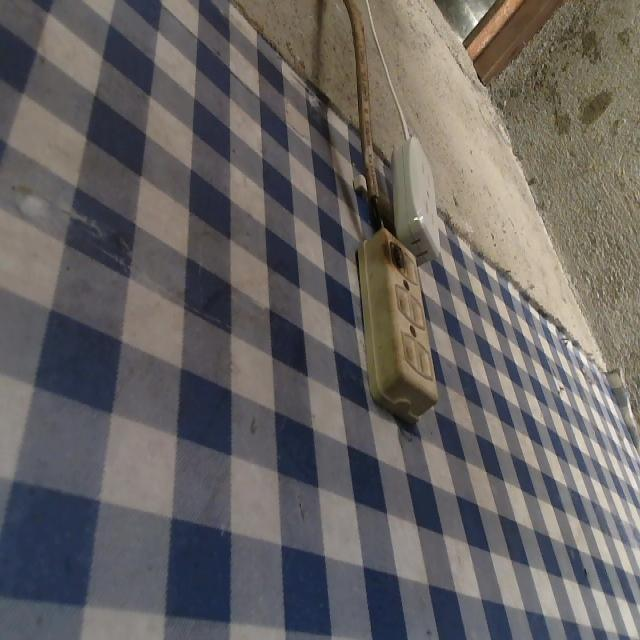-: (384, 236, 405, 280)
